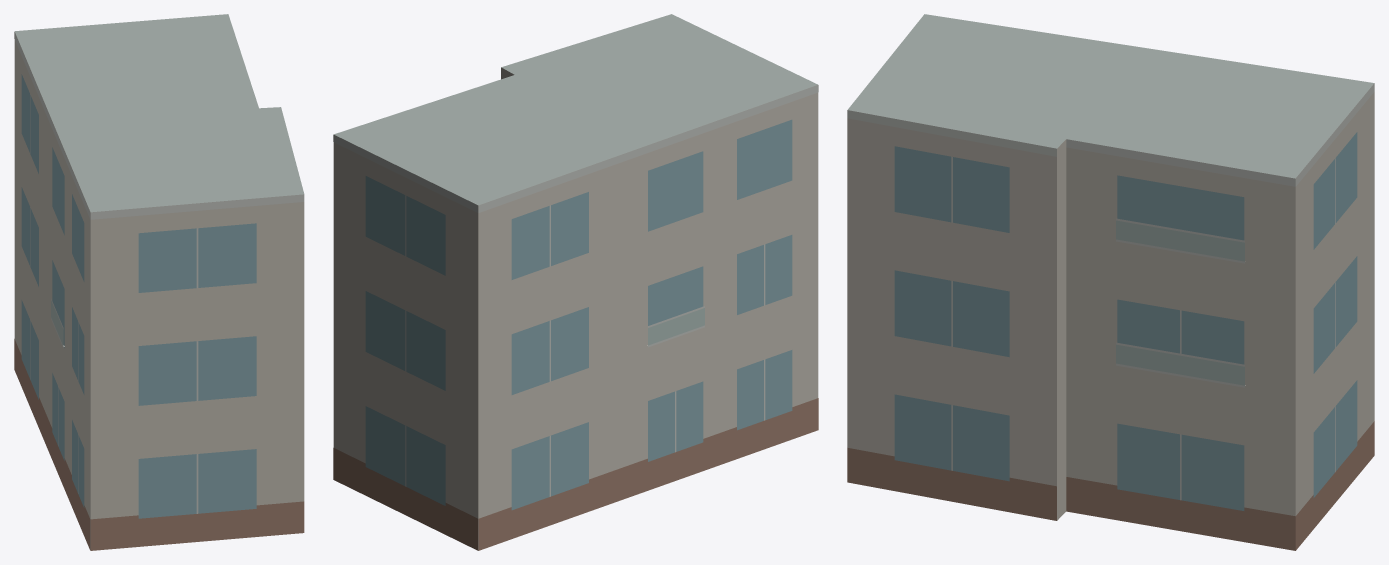
The model's file is survey-upis-32490367.glb.
3 views of the same model, side by side, from view 1: azimuth 30°, elevation 25°; view 2: azimuth 150°, elevation 25°; view 3: azimuth 270°, elevation 25° (orthographic). The views are drawn at different scales.
Visible parts, largest first — view 1: survey-upis-32490367.tmp; view 2: survey-upis-32490367.tmp; view 3: survey-upis-32490367.tmp.
Part boxes in pixels (left/top/right/bottom): survey-upis-32490367.tmp: left=14, top=14, right=304, bottom=550; survey-upis-32490367.tmp: left=333, top=14, right=818, bottom=550; survey-upis-32490367.tmp: left=847, top=14, right=1374, bottom=550.
Bounding box in the file's own units: 10.39 × 10.95 × 14.06.
